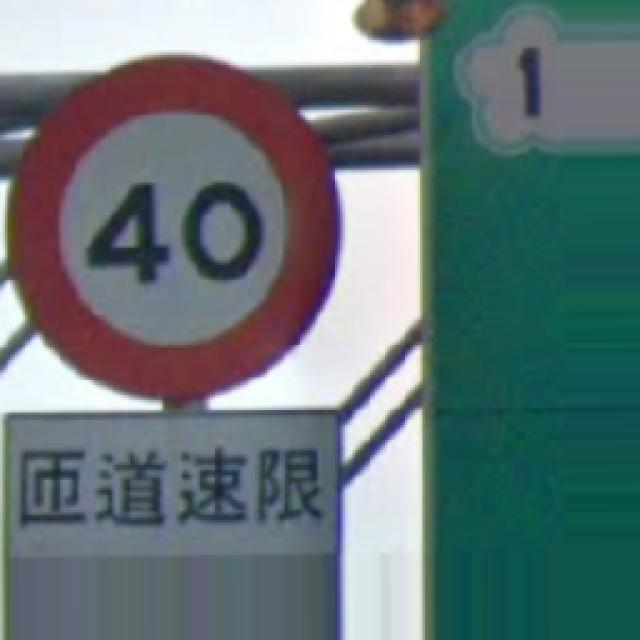Speed Limit -40-: (10, 58, 338, 400)
